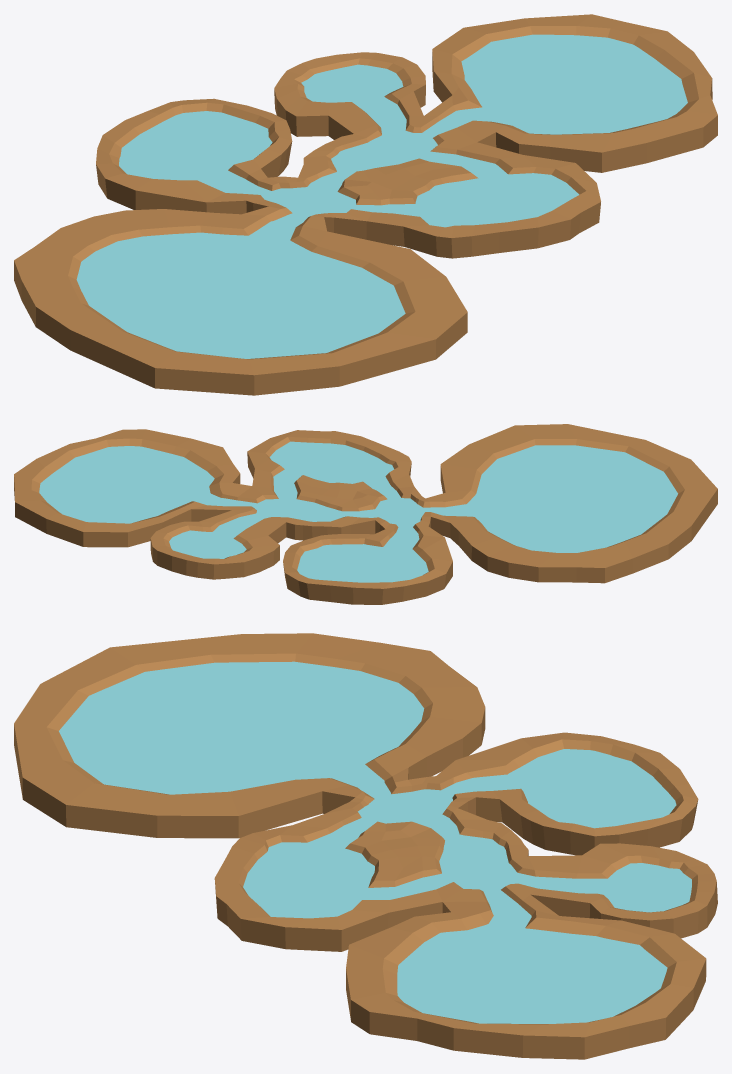
Rendered from MainMap1.fbx.
3 views of the same model, one above another, from view 1: azimuth 30°, elevation 25°; view 2: azimuth 150°, elevation 25°; view 3: azimuth 270°, elevation 25° (orthographic). The views are drawn at different scales.
Visible parts, largest first — view 1: LakeEdge, WaterBody; view 2: LakeEdge, WaterBody; view 3: LakeEdge, WaterBody.
Boxes of the visible parts, x1,y1,x2,y2 form: LakeEdge: (14, 14, 717, 395); WaterBody: (76, 34, 687, 358); LakeEdge: (14, 424, 717, 604); WaterBody: (39, 441, 677, 582); LakeEdge: (14, 633, 717, 1059); WaterBody: (59, 661, 691, 1023).
Bounding box in the file's own units: 194 × 6.59 × 143.
